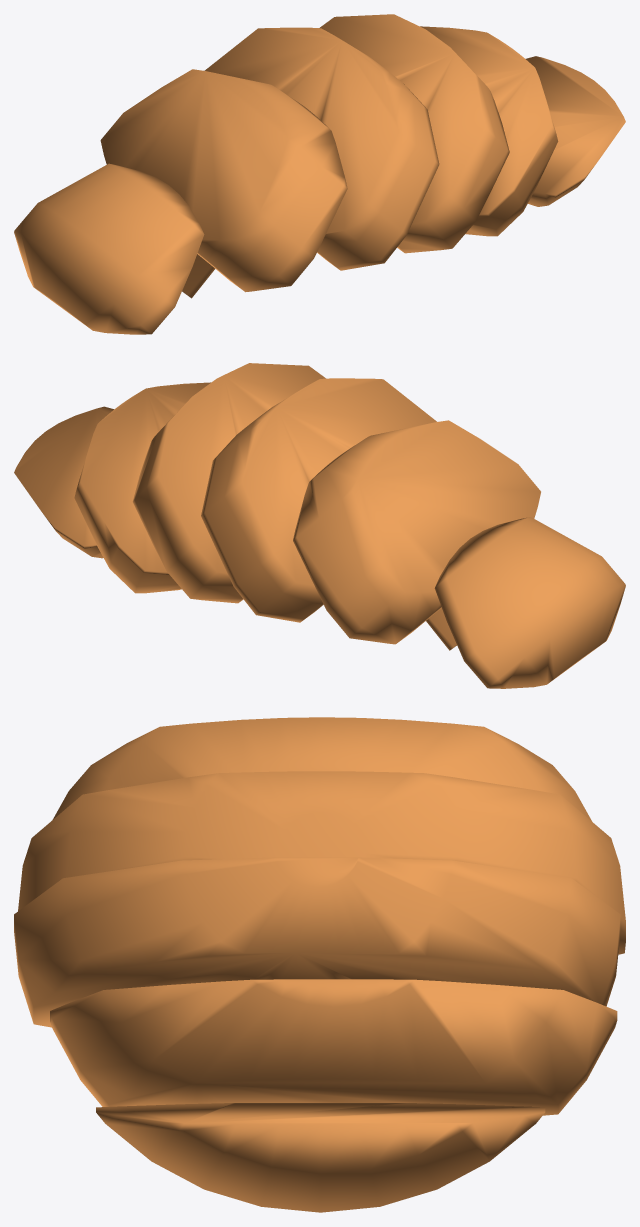
Rendered from cut mushroom.fbx.
3 renders of one model, top to bottom at view 1: azimuth 30°, elevation 25°; view 2: azimuth 150°, elevation 25°; view 3: azimuth 270°, elevation 25°, orthographic. The views are drawn at different scales.
Parts seen in each view (by area): view 1: Cylinder.003; view 2: Cylinder.003; view 3: Cylinder.003.
Boxes of the visible parts, x1=… form: Cylinder.003: x1=14, y1=14, x2=625, y2=334; Cylinder.003: x1=14, y1=363, x2=625, y2=688; Cylinder.003: x1=14, y1=717, x2=625, y2=1212.
Size of the model in its own units: 326 by 109 by 187.
